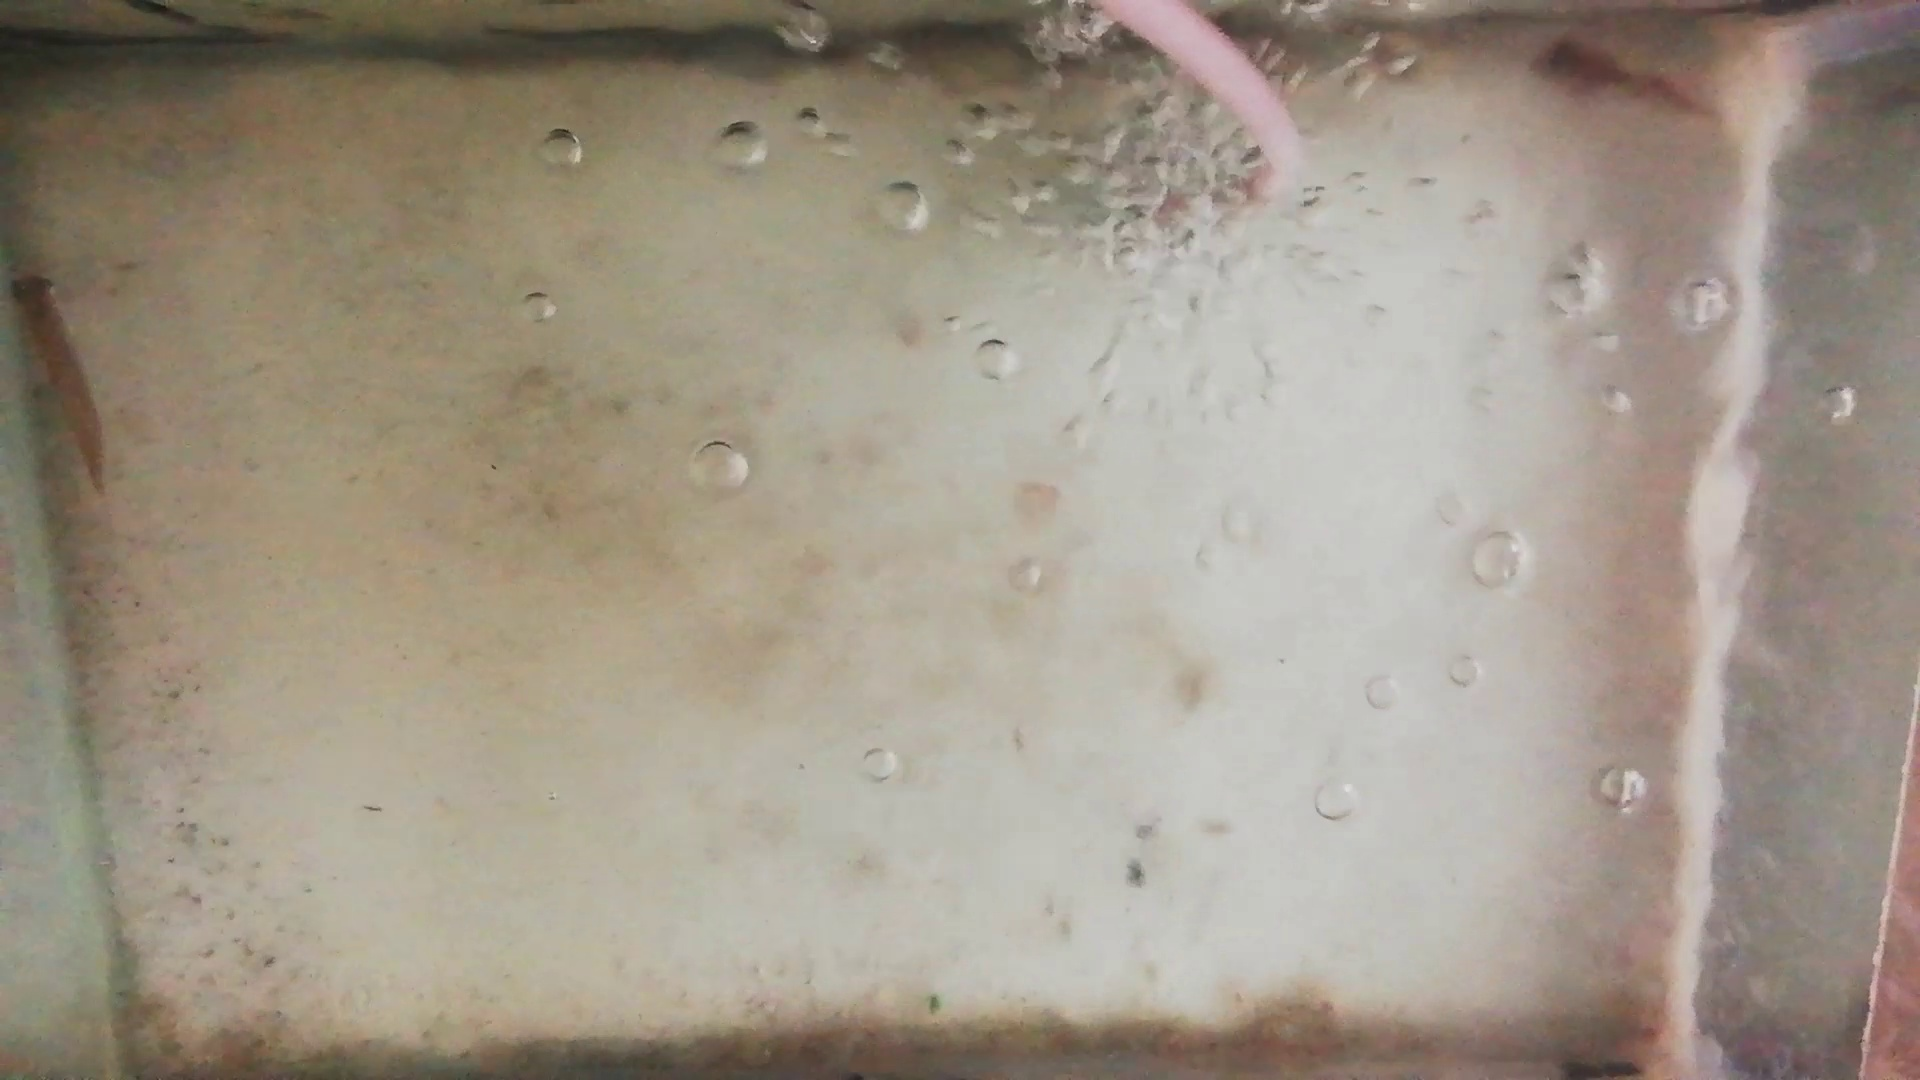fish: (15, 274, 107, 483), (1520, 40, 1709, 115)
